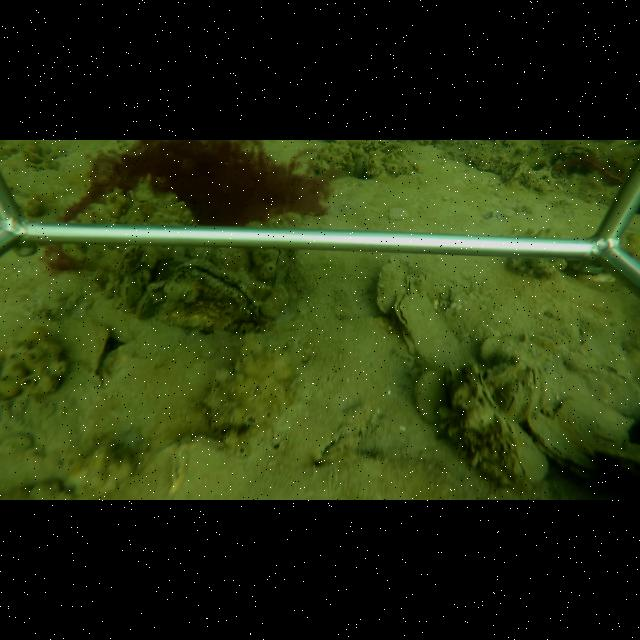Oyster-Closed: (390, 270, 483, 369), (525, 413, 601, 473), (374, 255, 408, 314), (471, 371, 501, 413), (265, 248, 293, 290), (119, 273, 142, 308), (504, 381, 525, 415), (135, 289, 154, 321)
Oyster-Open: (171, 257, 263, 322)
